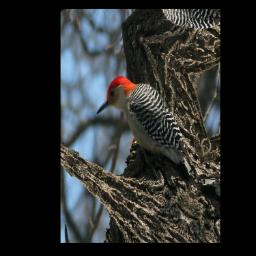Woodpecker: (92, 54, 210, 198)
